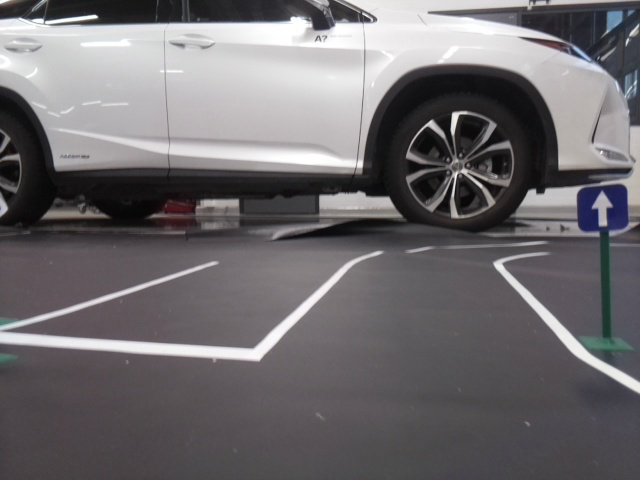OneWay: (575, 186, 627, 228)
